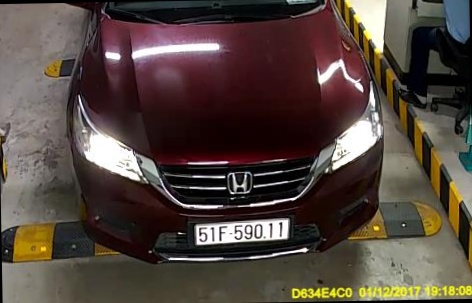plate: (194, 219, 292, 246)
